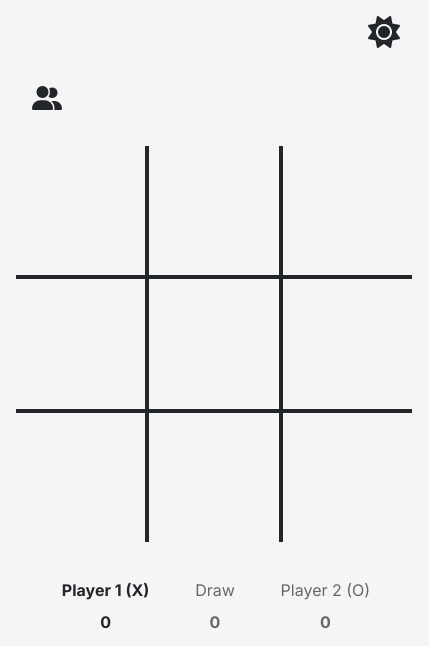
Test case: Game Flow › should handle game mode switching
This screenshot has width=429, height=646.
Expected: the element with test id "game-mode-2p" is shown, x1=32 y1=98 x2=62 y2=99
// Switch to single player
Click the link with test id "game-mode-button". click: (47, 98)
box: x1=32 y1=88 x2=62 y2=108
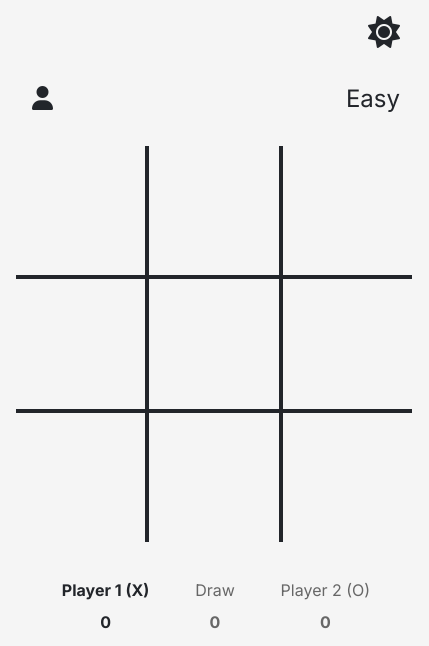
Expected: the element with test id "game-mode-1p" is shown, x1=32 y1=98 x2=53 y2=99
// Verify CPU moves after human move
Click the 5th element with test id "board-square". click: (216, 346)
box: x1=149 y1=279 x2=282 y2=412
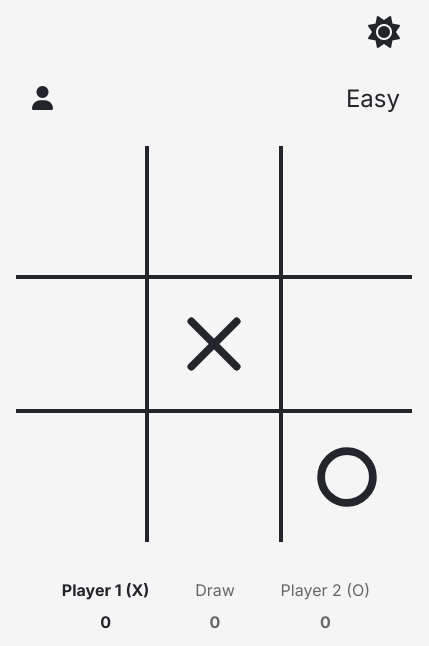
Result: the 2nd element with test id "square-content" is shown at x1=315 y1=445 x2=380 y2=510
